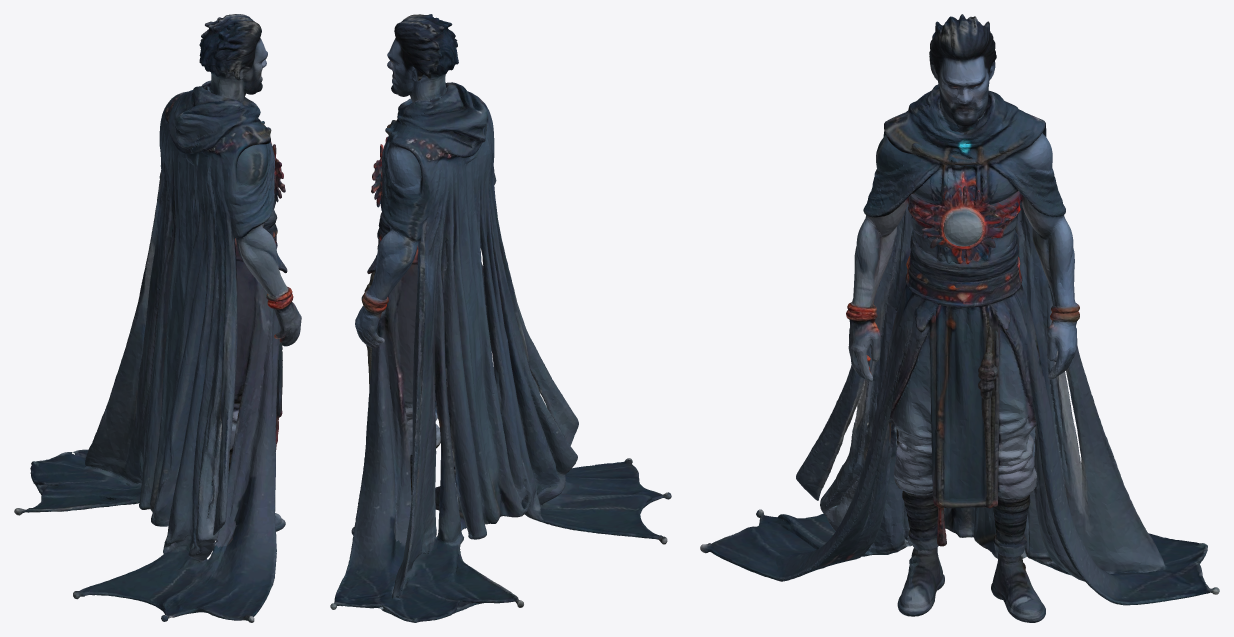
Rendered from modelo18.glb.
The picture shows the model from 3 angles, left to right: view 1: azimuth 30°, elevation 25°; view 2: azimuth 150°, elevation 25°; view 3: azimuth 270°, elevation 25°; orthographic projection. The views are drawn at different scales.
Visible parts, largest first — view 1: tripo_node_78900073-1805-435a-9e66-0b7d29f77fff; view 2: tripo_node_78900073-1805-435a-9e66-0b7d29f77fff; view 3: tripo_node_78900073-1805-435a-9e66-0b7d29f77fff.
Boxes of the visible parts, x1=… form: tripo_node_78900073-1805-435a-9e66-0b7d29f77fff: x1=14, y1=14, x2=301, y2=622; tripo_node_78900073-1805-435a-9e66-0b7d29f77fff: x1=330, y1=14, x2=671, y2=622; tripo_node_78900073-1805-435a-9e66-0b7d29f77fff: x1=700, y1=14, x2=1219, y2=622.
Size of the model in its own units: 0.5178 by 1 by 0.8012.
Materials: 1 (1 with a texture image).
